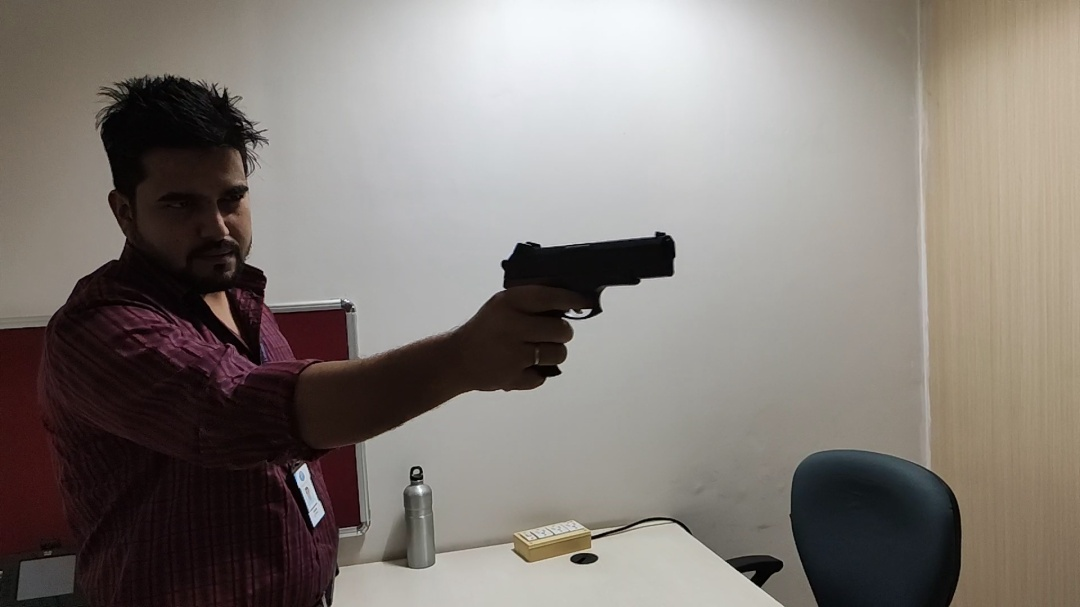gun: (498, 229, 683, 382)
